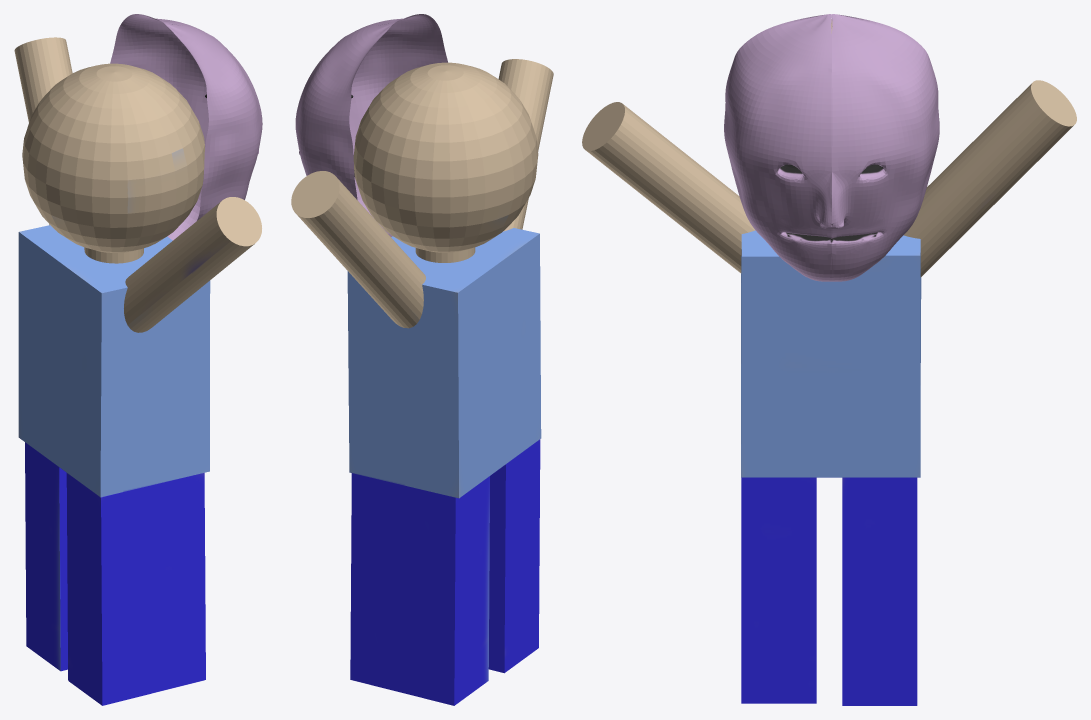
File: person_standing_neutral_color.fbx
The picture shows the model from 3 angles, left to right: view 1: azimuth 30°, elevation 25°; view 2: azimuth 150°, elevation 25°; view 3: azimuth 270°, elevation 25°; orthographic projection. The views are drawn at different scales.
Parts seen in each view (by area): view 1: Cube.001, Sphere; view 2: Cube.001, Sphere; view 3: Cube.001, Sphere.
Part boxes in pixels (x1,y1,x2,y2): Cube.001: (14,37,261,705); Sphere: (110,14,262,240); Cube.001: (291,59,553,705); Sphere: (295,14,447,236); Cube.001: (582,19,1076,705); Sphere: (724,14,939,281).
Size of the model in its own units: 224 by 604 by 392.
Materials: 2 (2 with a texture image).
